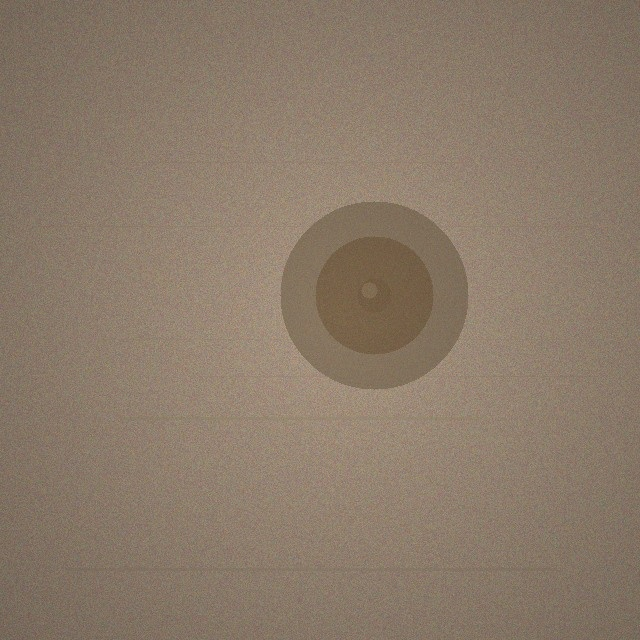good: (280, 201, 468, 389)
